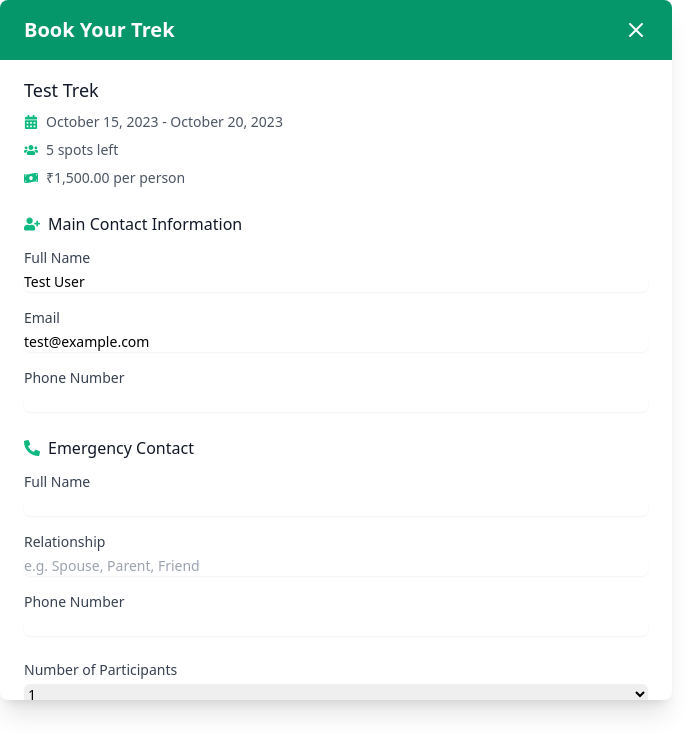
Test: BookingForm Component › updates total price when participants change
The width and height of the screenshot is (689, 734).
Select "3" in the dropdown labelled "Number of Participants" at (336, 694), box 24,684 -> 648,705
(page scrolled)
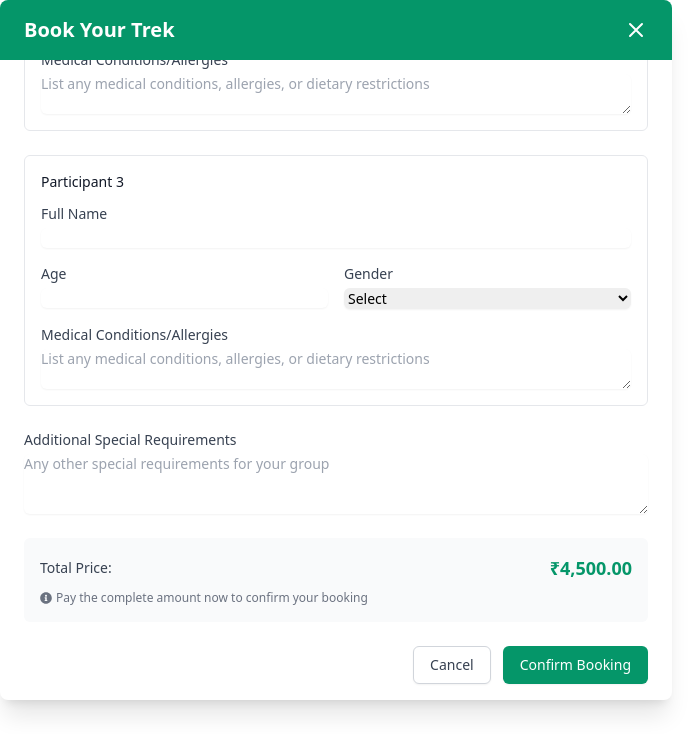
Expected: the text "₹4,500.00" is shown, 550,554 -> 632,582
